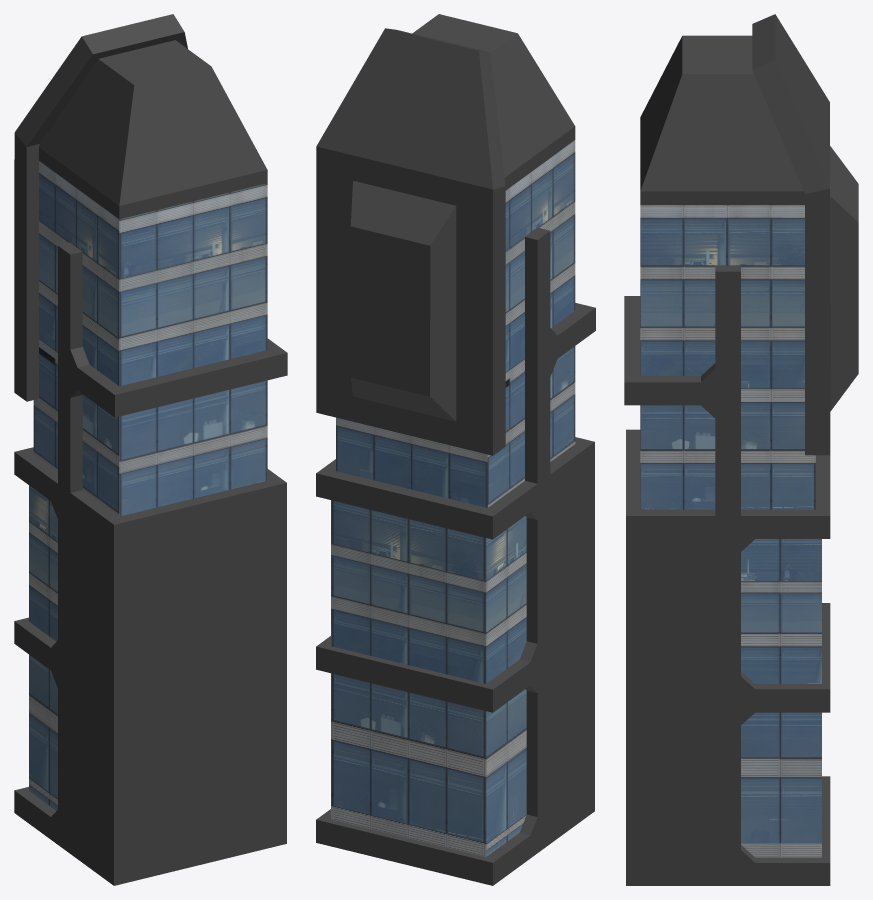
Rendered from ScifiTower03.fbx.
The picture shows the model from 3 angles, left to right: view 1: azimuth 30°, elevation 25°; view 2: azimuth 150°, elevation 25°; view 3: azimuth 270°, elevation 25°; orthographic projection. The views are drawn at different scales.
Parts seen in each view (by area): view 1: Stuctural, windows2, Windows1; view 2: Stuctural, Windows1, windows2; view 3: Stuctural, windows2, Windows1.
Boxes of the visible parts, x1,y1,x2,y2 form: Stuctural: (14,14,287,885); windows2: (33,40,267,516); Windows1: (29,485,57,810); Stuctural: (316,28,595,885); Windows1: (331,500,526,856); windows2: (336,14,575,507); Stuctural: (624,14,858,885); windows2: (640,35,815,509); Windows1: (741,539,821,857).
Size of the model in its own units: 12 by 52.18 by 13.76.
